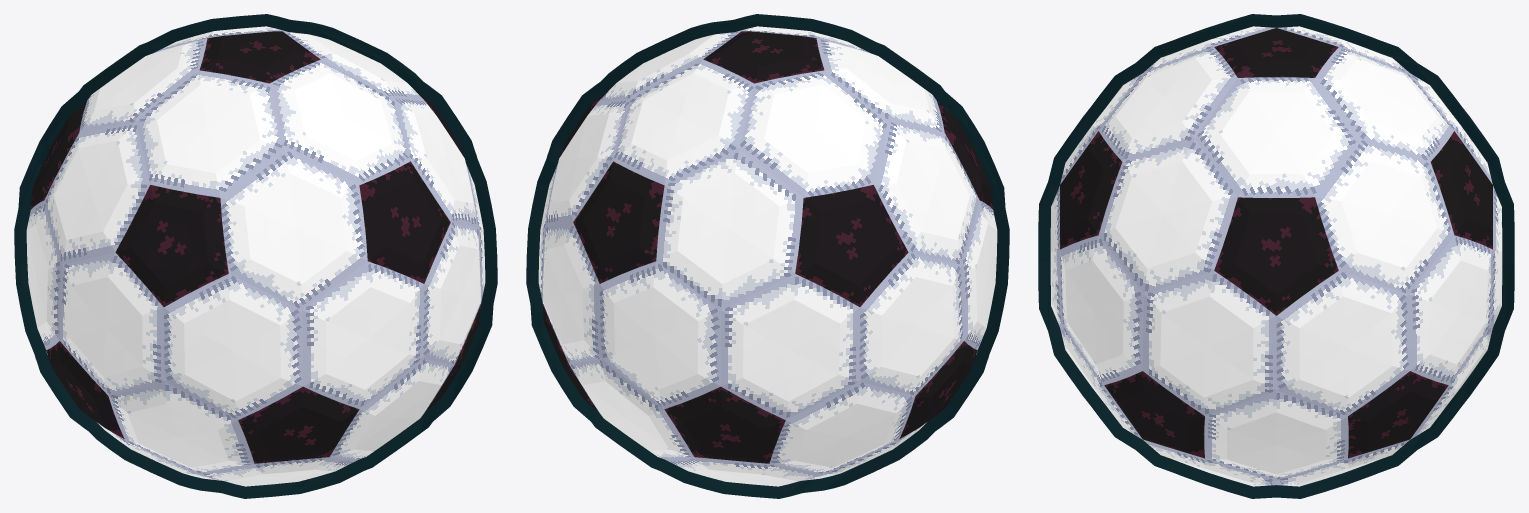
The model's file is soccer_ball.glb.
3 views of the same model, side by side, from view 1: azimuth 30°, elevation 25°; view 2: azimuth 150°, elevation 25°; view 3: azimuth 270°, elevation 25° (orthographic).
Parts seen in each view (by area): view 1: Icosphere; view 2: Icosphere; view 3: Icosphere.
Boxes of the visible parts, x1,y1,x2,y2 form: Icosphere: (14, 14, 497, 498); Icosphere: (526, 14, 1009, 498); Icosphere: (1038, 14, 1514, 498).
Size of the model in its own units: 1.86 by 1.87 by 1.83.
2 materials, 1 textured.
